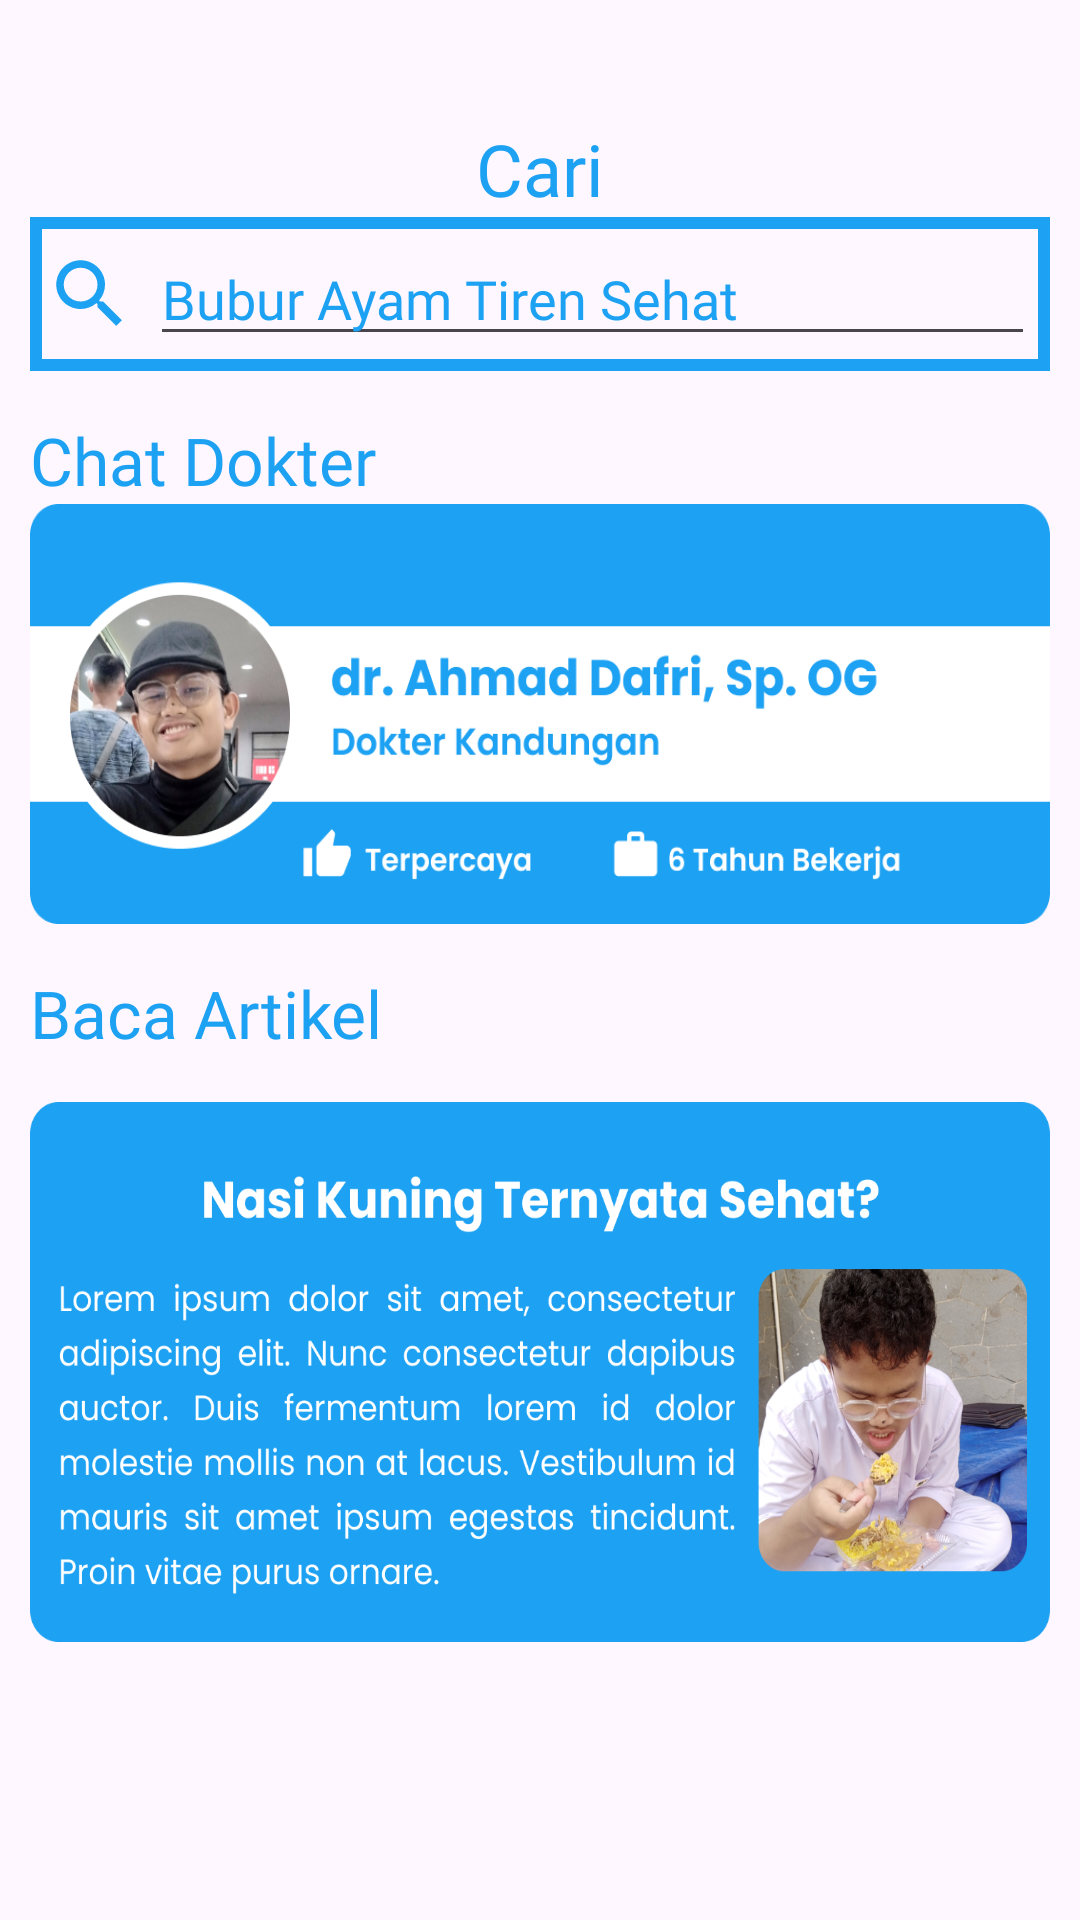

Icons on this 1080w x 1920h Android screen, each with the point to tap as (x,y):
search: (89,293)
